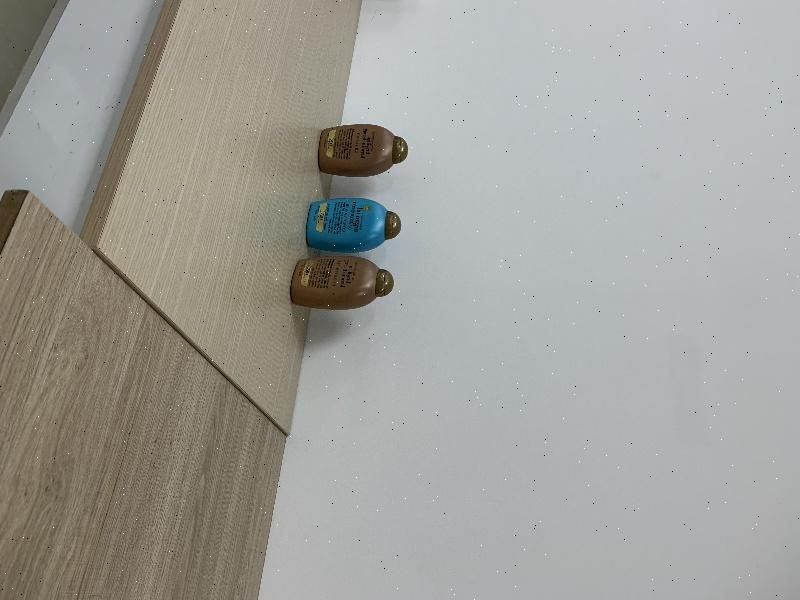ArganOilOfMorocco_Conditioner: (306, 198, 402, 254)
BrazilianKeratinTherapy_Shampoo: (317, 124, 409, 177)
BrazilianKerationTherapy_Conditioner: (290, 256, 394, 311)
